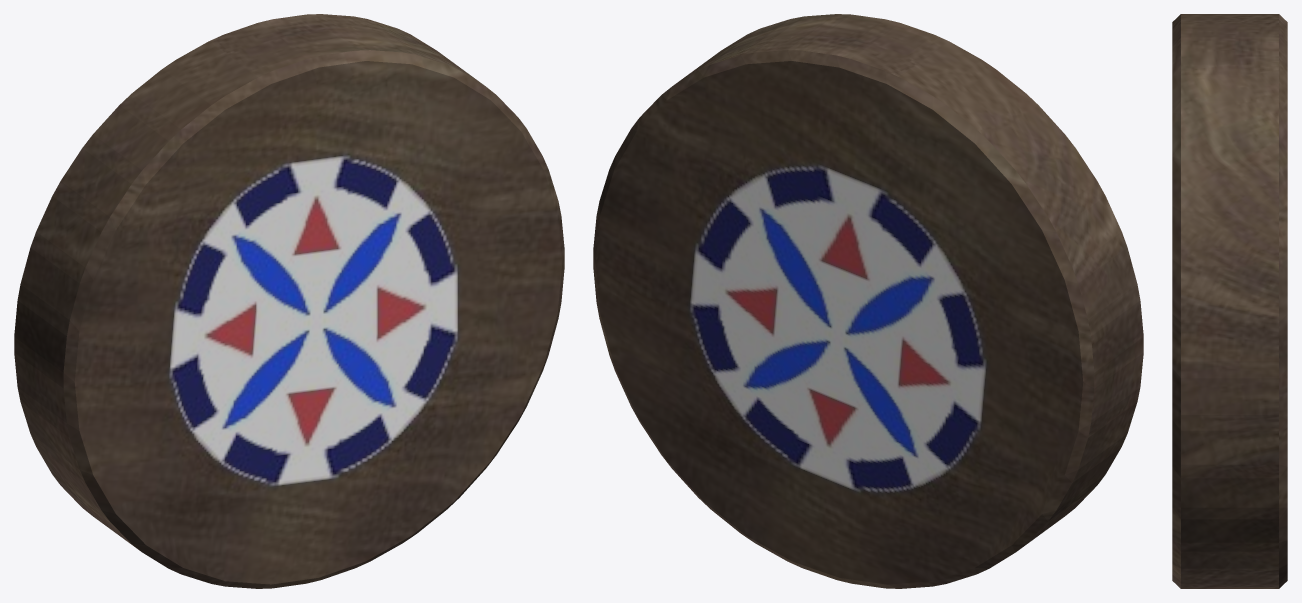
The model's file is dameNoire.obj.
The picture shows the model from 3 angles, left to right: view 1: azimuth 30°, elevation 25°; view 2: azimuth 150°, elevation 25°; view 3: azimuth 270°, elevation 25°; orthographic projection.
Visible parts, largest first — view 1: Cylinder.001_Cylinder.002; view 2: Cylinder.001_Cylinder.002; view 3: Cylinder.001_Cylinder.002.
Boxes of the visible parts, box(x1,y1,x2,y2) form: Cylinder.001_Cylinder.002: box(14, 14, 564, 588); Cylinder.001_Cylinder.002: box(593, 14, 1143, 588); Cylinder.001_Cylinder.002: box(1172, 14, 1287, 588).
Bounding box in the file's own units: 0.9871 × 0.9871 × 0.198.
